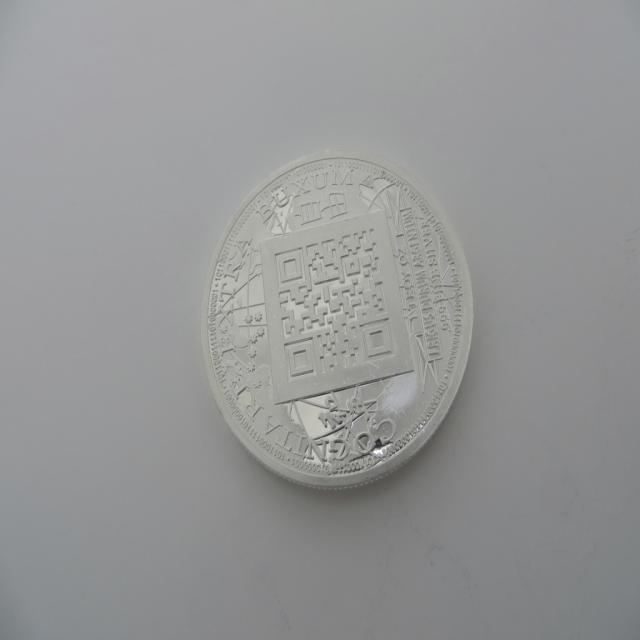Coin: (199, 146, 475, 487)
